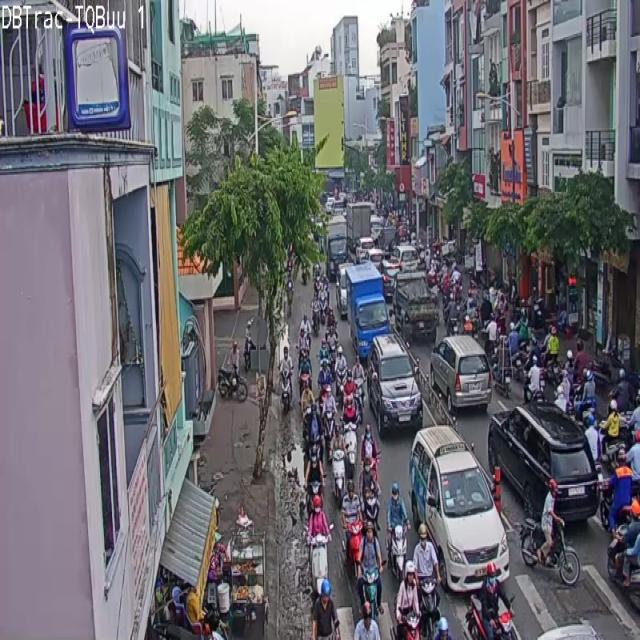car: (414, 523, 439, 629), (361, 521, 383, 619), (541, 485, 554, 555), (390, 525, 406, 577), (333, 451, 345, 502), (312, 546, 326, 579)
traffic-light: (410, 427, 509, 592), (488, 401, 596, 521), (369, 336, 422, 437), (430, 336, 492, 415)
truck: (345, 262, 390, 363)
